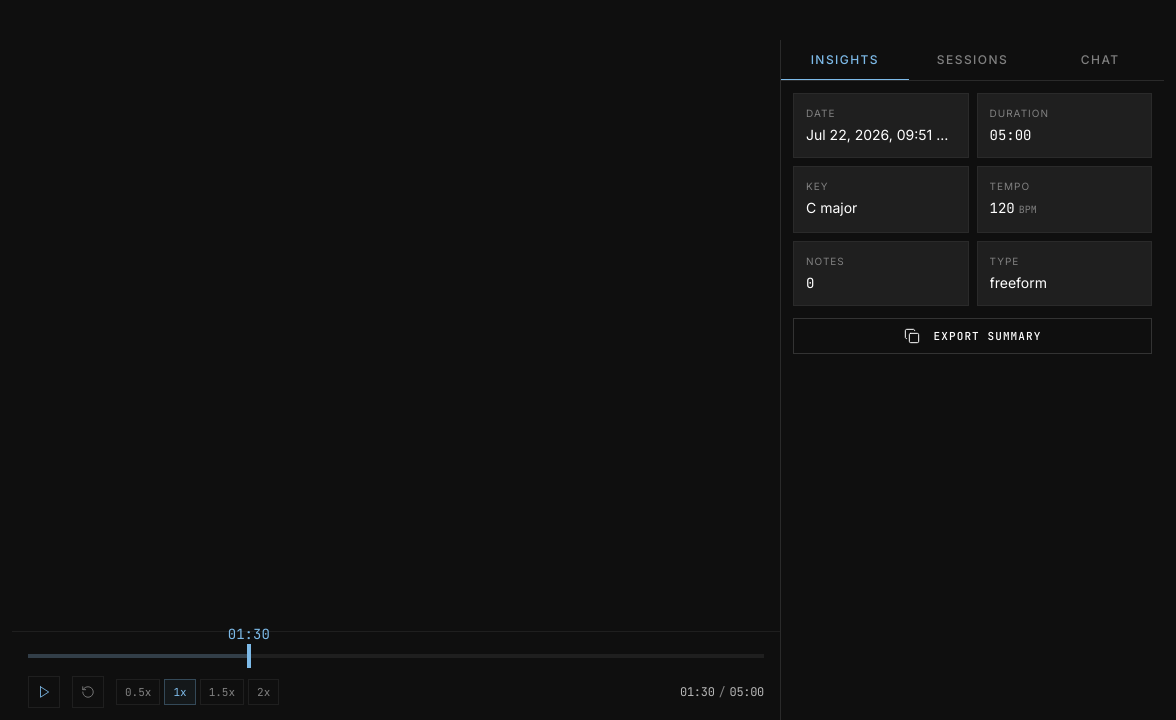
Test case: ReplayStudio › chat tab › shows graceful degradation when no API key
Click the tab "Chat" at (1100, 60), box [1036,40,1164,80]
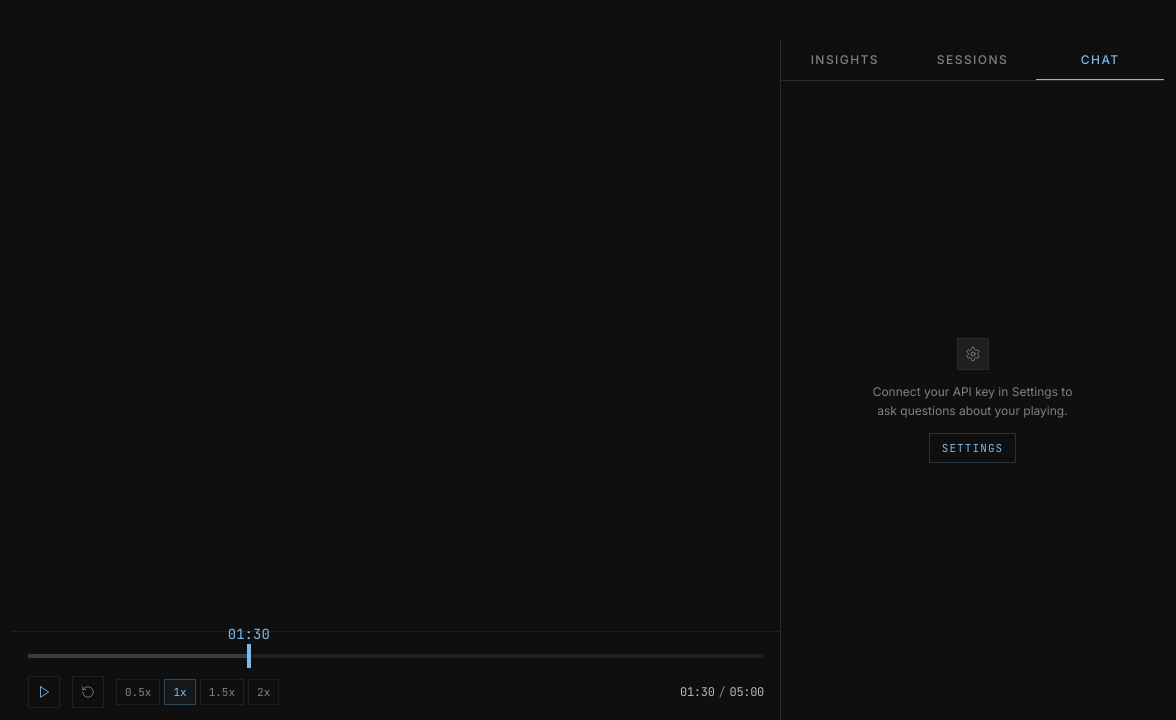
Expected: the text "Connect your API key in Settings" is shown, [873,384,1072,418]
